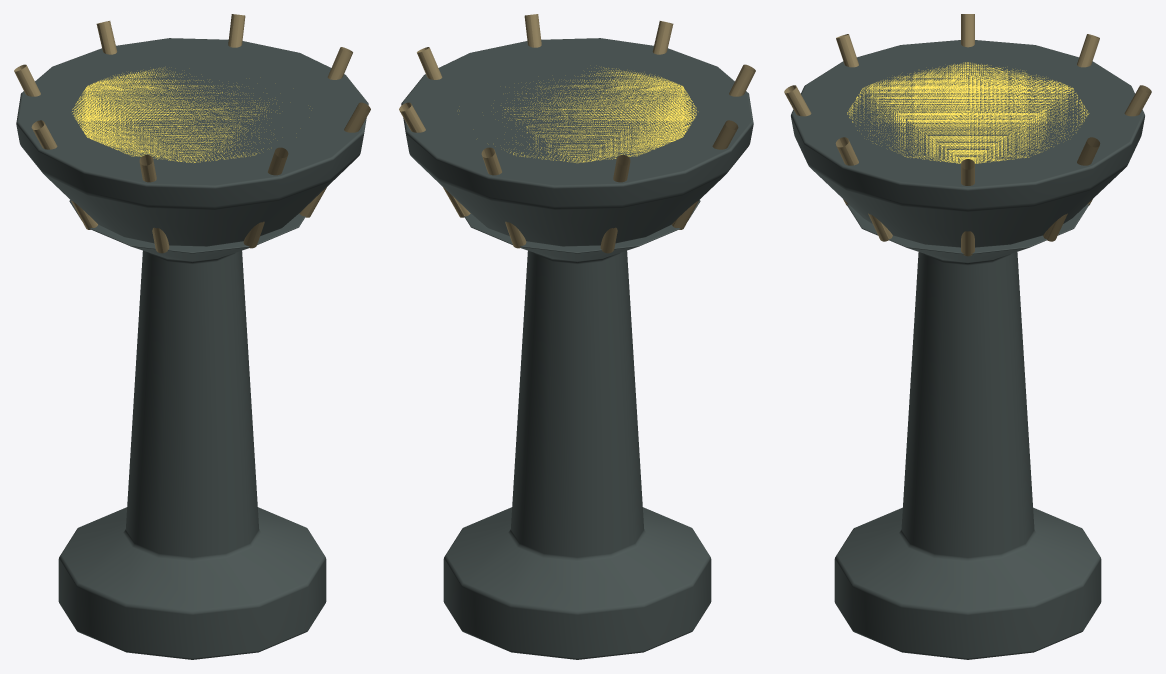
Rendered from iron_brazier.glb.
3 renders of one model, left to right at view 1: azimuth 30°, elevation 25°; view 2: azimuth 150°, elevation 25°; view 3: azimuth 270°, elevation 25°, orthographic.
Parts seen in each view (by area): view 1: Brazier foot; view 2: Brazier foot; view 3: Brazier foot.
Boxes of the visible parts, <box> form: Brazier foot: <box>14,14,370,659</box>; Brazier foot: <box>399,14,755,659</box>; Brazier foot: <box>784,14,1151,659</box>.
Size of the model in its own units: 0.8276 by 1.29 by 0.8276.
